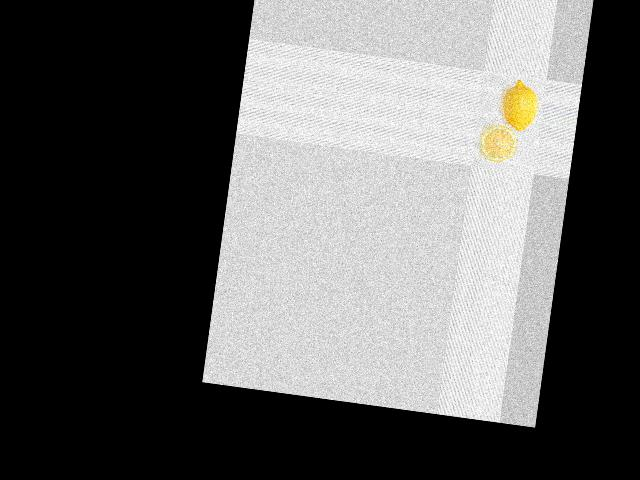lemon: (500, 79, 544, 139)
